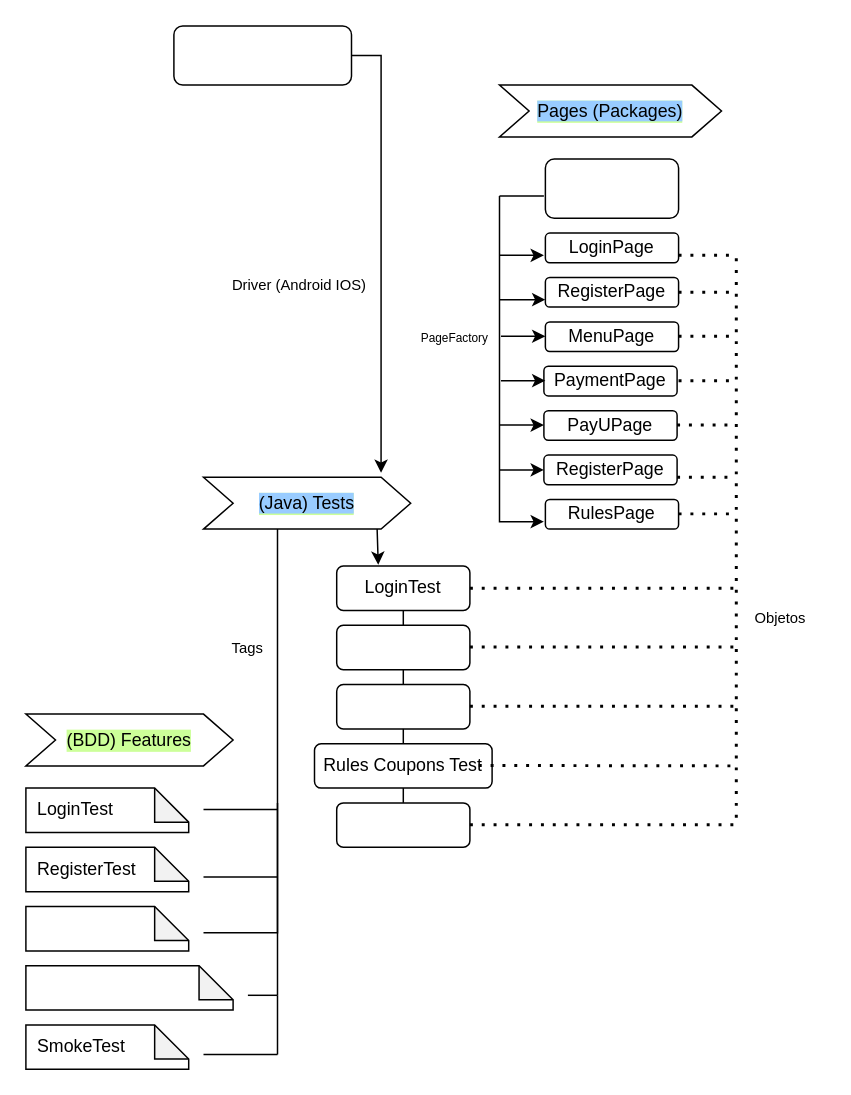
The diagram is 851 pixels wide and 1095 high, and some of its shapes have lost their labels. The centre of each missing label's shape, as x and y in pixels:
"BaseClass" goes at point 262,54.
"Basepage" goes at point 611,188.
"PayU Test" goes at point 402,706.
"PayUTest" goes at point 106,928.
"Register Test" goes at point 402,647.
"RulesCouponsTest" goes at point 128,987.
"Smoke Test" goes at point 402,824.
